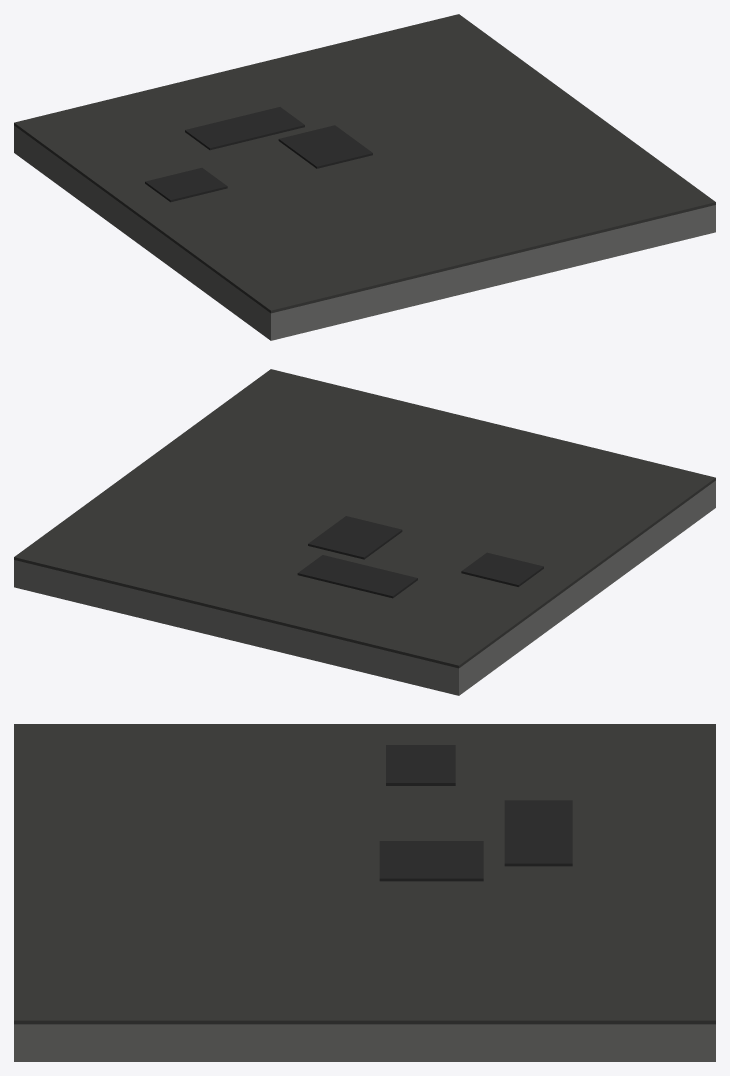
The model's file is SM_Bld_Roof_Flat_Closed_01.glb.
3 views of the same model, one above another, from view 1: azimuth 30°, elevation 25°; view 2: azimuth 150°, elevation 25°; view 3: azimuth 270°, elevation 25° (orthographic). The views are drawn at different scales.
Parts seen in each view (by area): view 1: SM_Bld_Roof_Flat_Closed_01; view 2: SM_Bld_Roof_Flat_Closed_01; view 3: SM_Bld_Roof_Flat_Closed_01.
Part boxes in pixels (box(x1,y1,x2,y2)): SM_Bld_Roof_Flat_Closed_01: box(14, 14, 715, 340); SM_Bld_Roof_Flat_Closed_01: box(14, 369, 715, 695); SM_Bld_Roof_Flat_Closed_01: box(14, 724, 715, 1061).
Size of the model in its own units: 3.39 by 0.235 by 3.39.
1 material, 1 textured.
